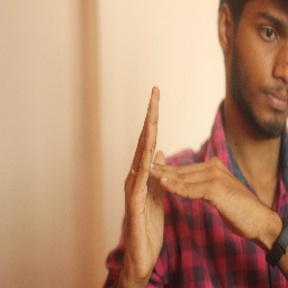Z: (121, 81, 257, 269)
